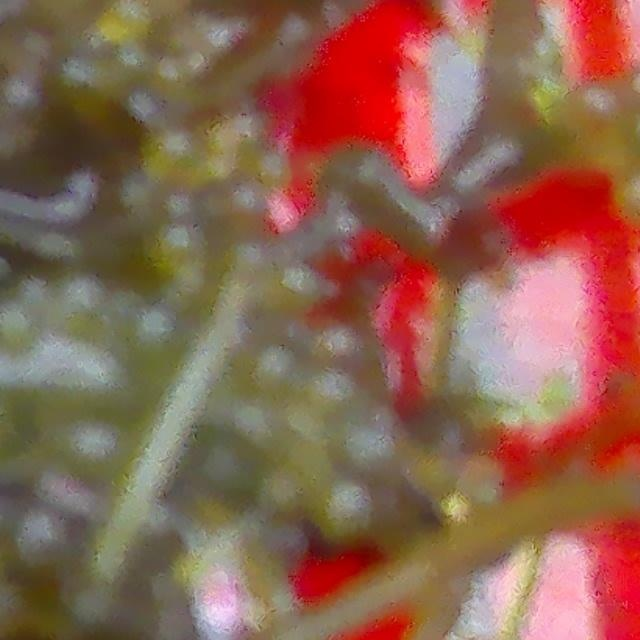SeaGrape: (0, 503, 98, 588), (0, 85, 55, 142)
